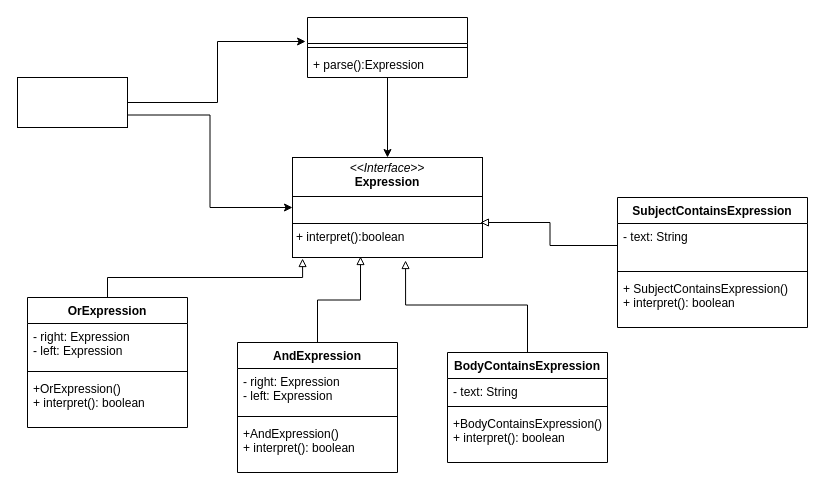
The diagram is 825 pixels wide and 493 high, and some of its shapes have lost their labels. The shapes that lost their labels are listed below. From the top down, each one's box as (x1, y1, x2, y2) in pixels, then its label:
(306, 16, 468, 78): SearchParser
(16, 76, 128, 128): Client
